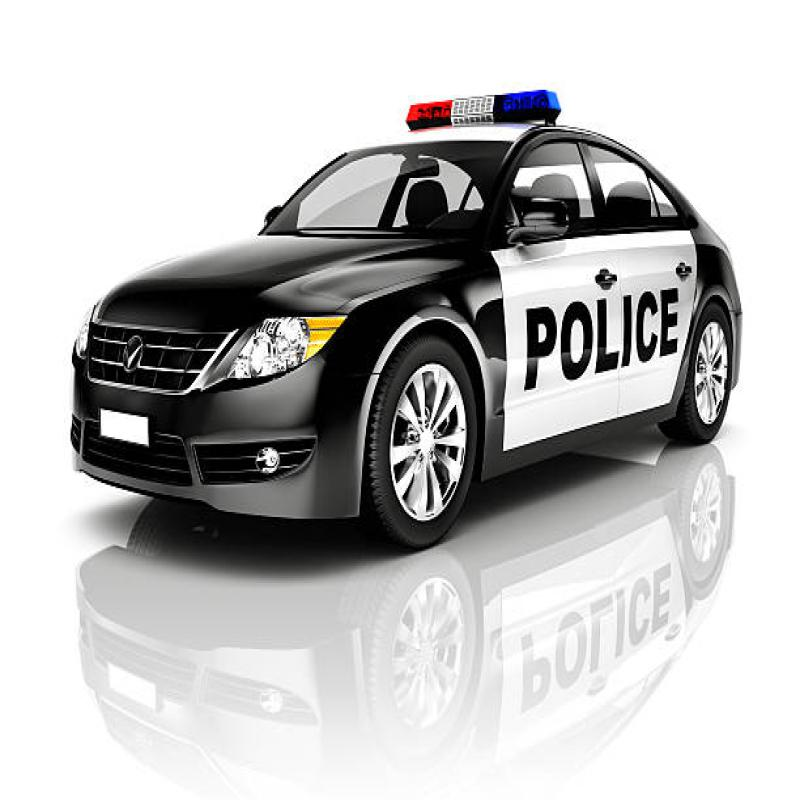AmbulanceSiren: (397, 78, 564, 138)
